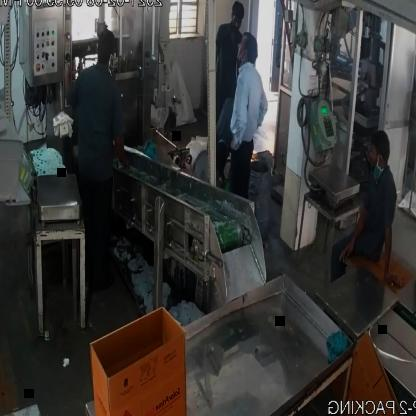no_glove: (338, 180, 375, 269), (376, 208, 410, 298), (227, 81, 253, 162), (114, 117, 135, 174)
